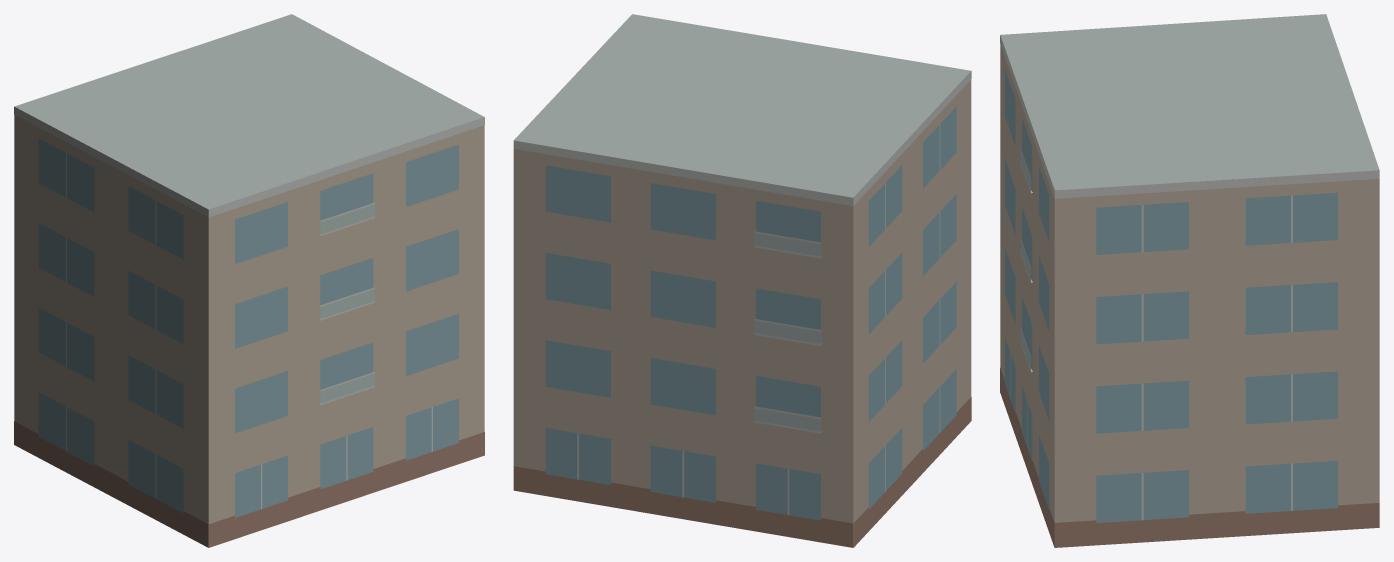
The model's file is survey-upis-32989142.glb.
3 views of the same model, side by side, from view 1: azimuth 30°, elevation 25°; view 2: azimuth 150°, elevation 25°; view 3: azimuth 270°, elevation 25° (orthographic). The views are drawn at different scales.
Parts seen in each view (by area): view 1: survey-upis-32989142.tmp; view 2: survey-upis-32989142.tmp; view 3: survey-upis-32989142.tmp.
Boxes of the visible parts, x1=… form: survey-upis-32989142.tmp: x1=14, y1=14, x2=484, y2=547; survey-upis-32989142.tmp: x1=513, y1=14, x2=971, y2=547; survey-upis-32989142.tmp: x1=1000, y1=14, x2=1379, y2=547.
Size of the model in its own units: 10.91 by 10.3 by 9.92.
